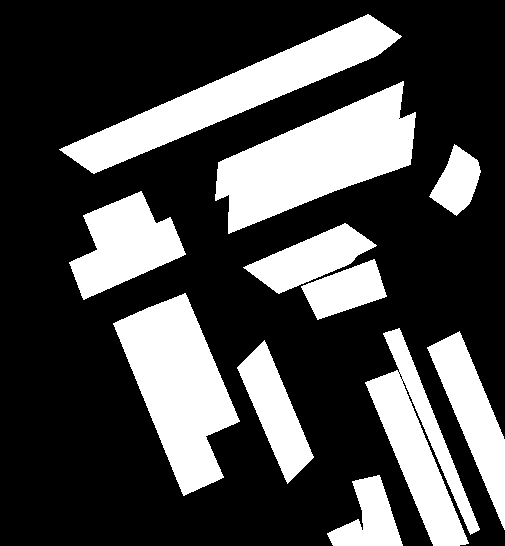parkingspot: (59, 14, 401, 173), (228, 112, 415, 233), (215, 81, 403, 200), (113, 307, 223, 495), (383, 328, 479, 534), (365, 370, 468, 545), (427, 331, 505, 531), (147, 293, 239, 437), (237, 340, 313, 483), (69, 217, 185, 299), (243, 223, 376, 293), (301, 259, 386, 319), (83, 191, 157, 251), (429, 144, 480, 215), (352, 475, 402, 545), (327, 519, 367, 545)
